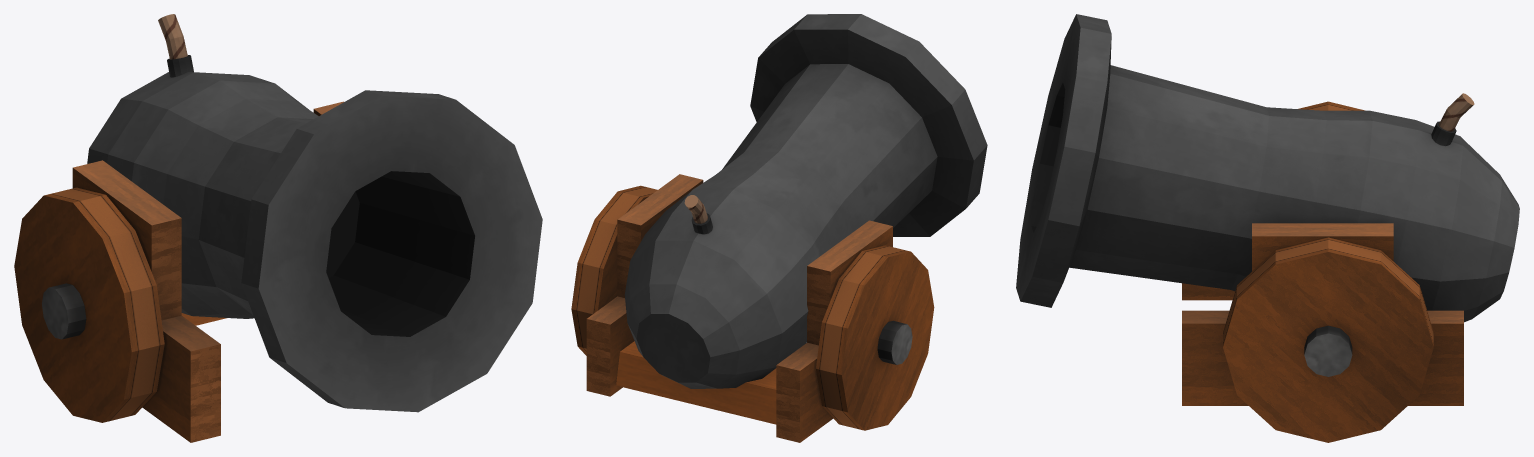
The model's file is cannon_v1.fbx.
3 renders of one model, left to right at view 1: azimuth 30°, elevation 25°; view 2: azimuth 150°, elevation 25°; view 3: azimuth 270°, elevation 25°, orthographic. The views are drawn at different scales.
Visible parts, largest first — view 1: Cylinder, Cube; view 2: Cylinder, Cube, Cube.003; view 3: Cylinder, Cube.
Boxes of the visible parts, bbox=[...] form: Cylinder: bbox=[87, 14, 542, 412]; Cube: bbox=[14, 101, 343, 442]; Cylinder: bbox=[624, 14, 987, 388]; Cube: bbox=[571, 174, 934, 442]; Cube.003: bbox=[616, 341, 776, 424]; Cylinder: bbox=[1016, 14, 1519, 322]; Cube: bbox=[1182, 101, 1463, 442].
Size of the model in its own units: 420 by 401 by 539.
